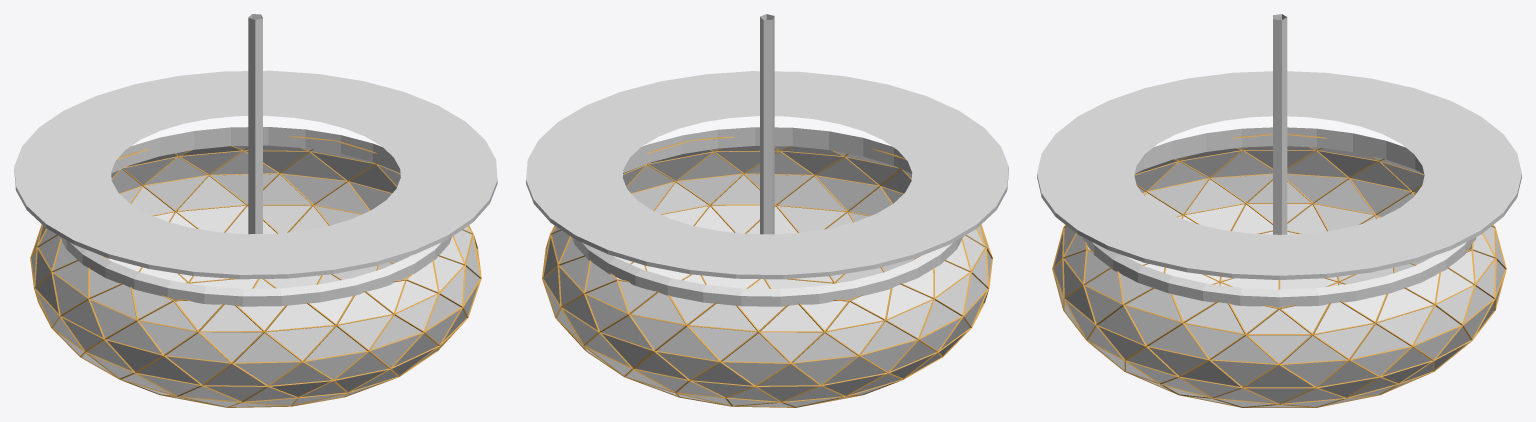
The model's file is LampCeiling.fbx.
3 views of the same model, side by side, from view 1: azimuth 30°, elevation 25°; view 2: azimuth 150°, elevation 25°; view 3: azimuth 270°, elevation 25° (orthographic).
Visible parts, largest first — view 1: Circle, Icosphere, Icosphere.002, Lampenschirm, Frame, LampenAufhaenger; view 2: Circle, Icosphere, Icosphere.002, Frame, Lampenschirm, LampenAufhaenger; view 3: Circle, Icosphere, Icosphere.002, Lampenschirm, Frame, LampenAufhaenger.
Boxes of the visible parts, x1,y1,x2,y2 form: Circle: (14, 70, 497, 279); Icosphere: (31, 225, 479, 406); Icosphere.002: (108, 138, 409, 288); Lampenschirm: (30, 136, 481, 407); Frame: (59, 127, 451, 306); LampenAufhaenger: (248, 14, 262, 234); Circle: (526, 71, 1008, 279); Icosphere: (543, 226, 991, 406); Icosphere.002: (613, 138, 915, 288); Frame: (571, 127, 963, 306); Lampenschirm: (542, 136, 992, 407); LampenAufhaenger: (760, 14, 774, 234); Circle: (1037, 71, 1521, 279); Icosphere: (1054, 225, 1504, 407); Icosphere.002: (1087, 137, 1471, 289); Lampenschirm: (1052, 134, 1506, 407); Frame: (1082, 127, 1476, 307); LampenAufhaenger: (1273, 14, 1287, 234).
Bounding box in the file's own units: 214 × 173 × 214.
